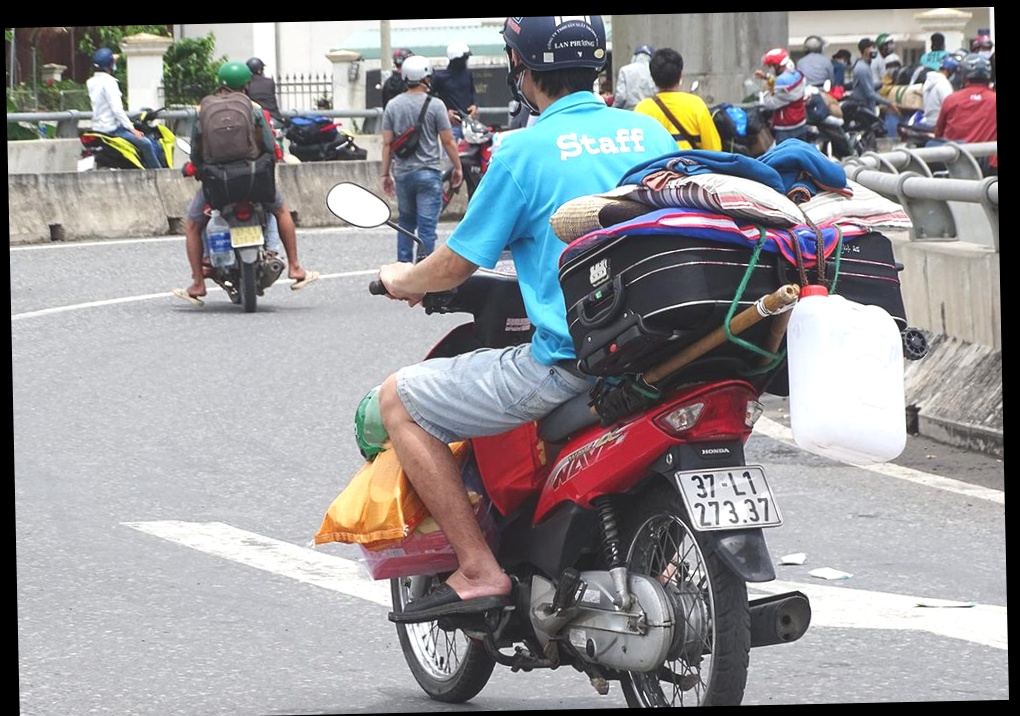Bien-so: (711, 439, 832, 520), (253, 221, 295, 249), (93, 160, 113, 179)
